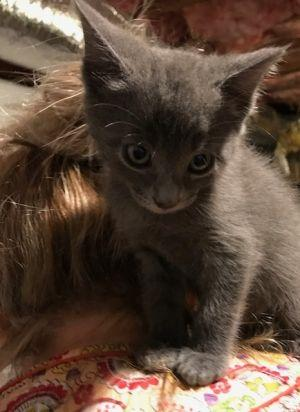rblue: (64, 1, 287, 229)
